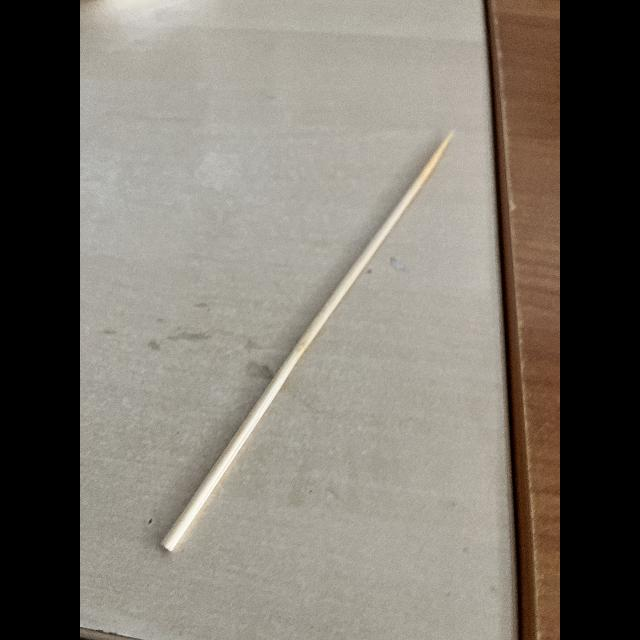stick: (150, 125, 460, 550)
